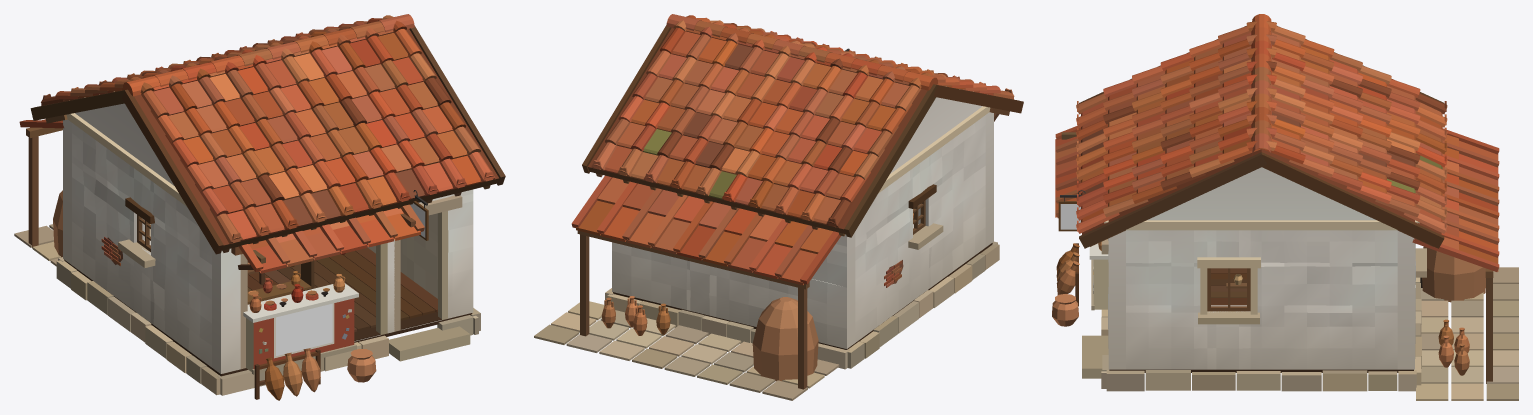
The model's file is shop_potter.glb.
3 renders of one model, left to right at view 1: azimuth 30°, elevation 25°; view 2: azimuth 150°, elevation 25°; view 3: azimuth 270°, elevation 25°, orthographic. The views are drawn at different scales.
Visible parts, largest first — view 1: House, Walls, Rooms; view 2: House, Walls; view 3: House, Walls, Rooms.
Boxes of the visible parts, x1,y1,x2,y2 form: House: (14, 14, 505, 400); Walls: (63, 103, 473, 373); Rooms: (149, 213, 437, 331); House: (534, 14, 1023, 400); Walls: (612, 97, 993, 348); House: (1052, 14, 1518, 400); Walls: (1108, 167, 1415, 369); Rooms: (1211, 268, 1246, 305).
Bounding box in the file's own units: 4.28 × 3.48 × 5.95.
Materials: 6 (6 with a texture image).
